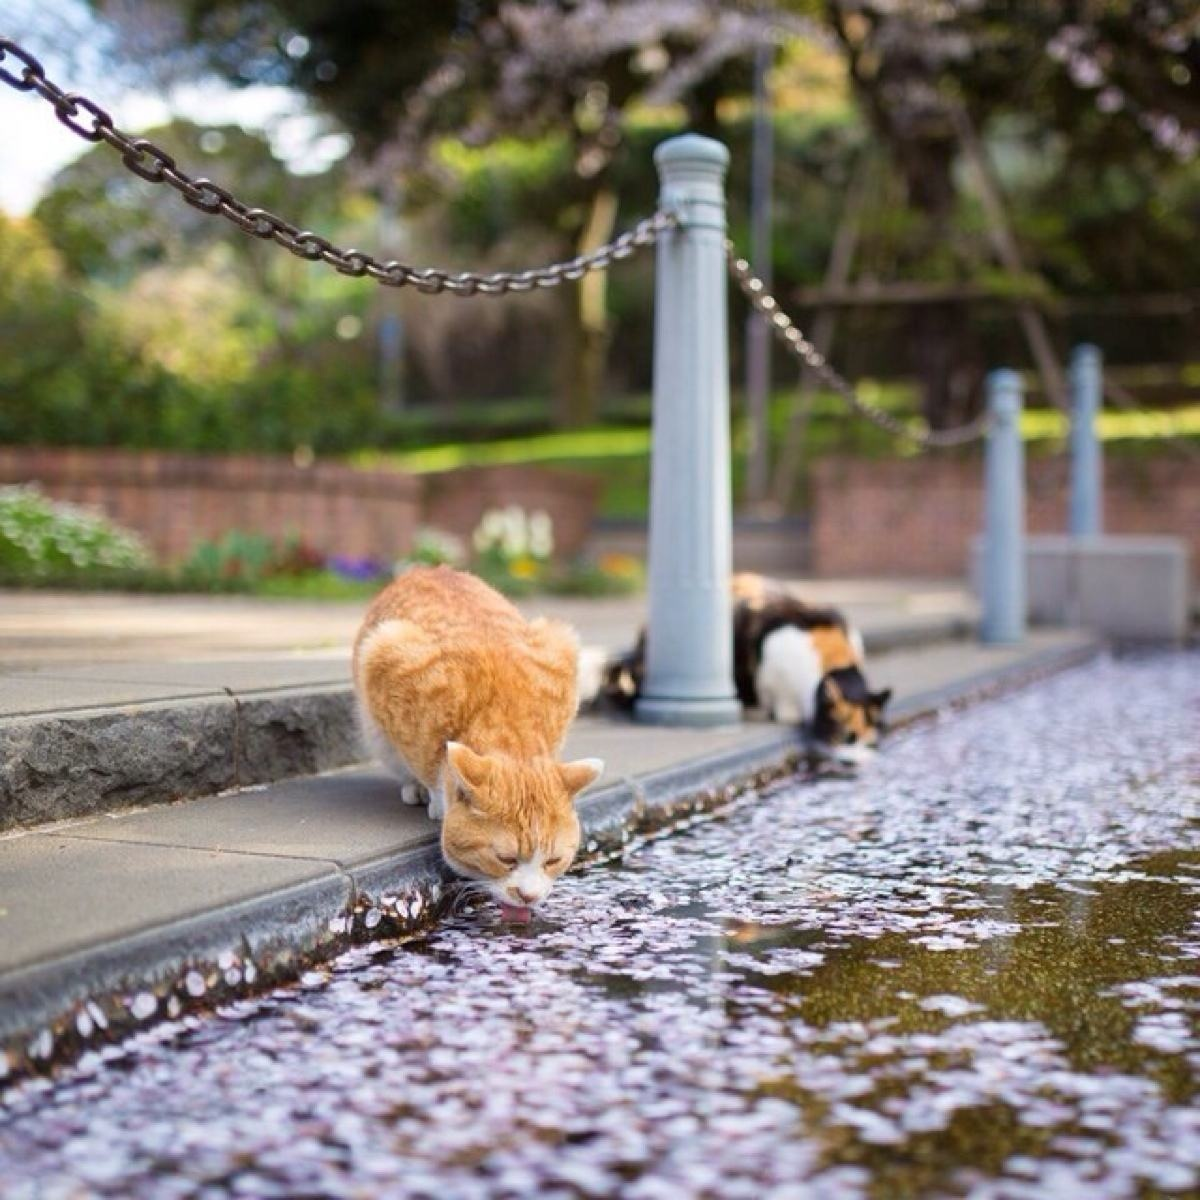cat: (353, 562, 605, 926), (581, 573, 895, 769)
